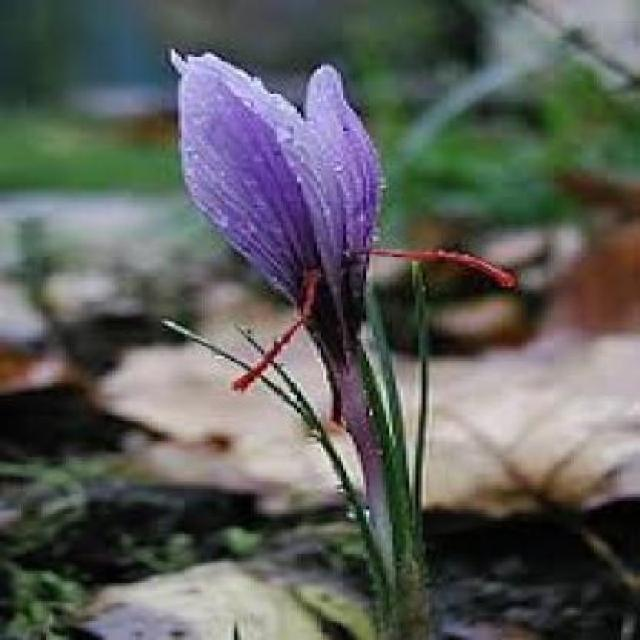Flower: (162, 36, 392, 364)
stigma: (224, 281, 316, 400), (369, 245, 518, 291)
